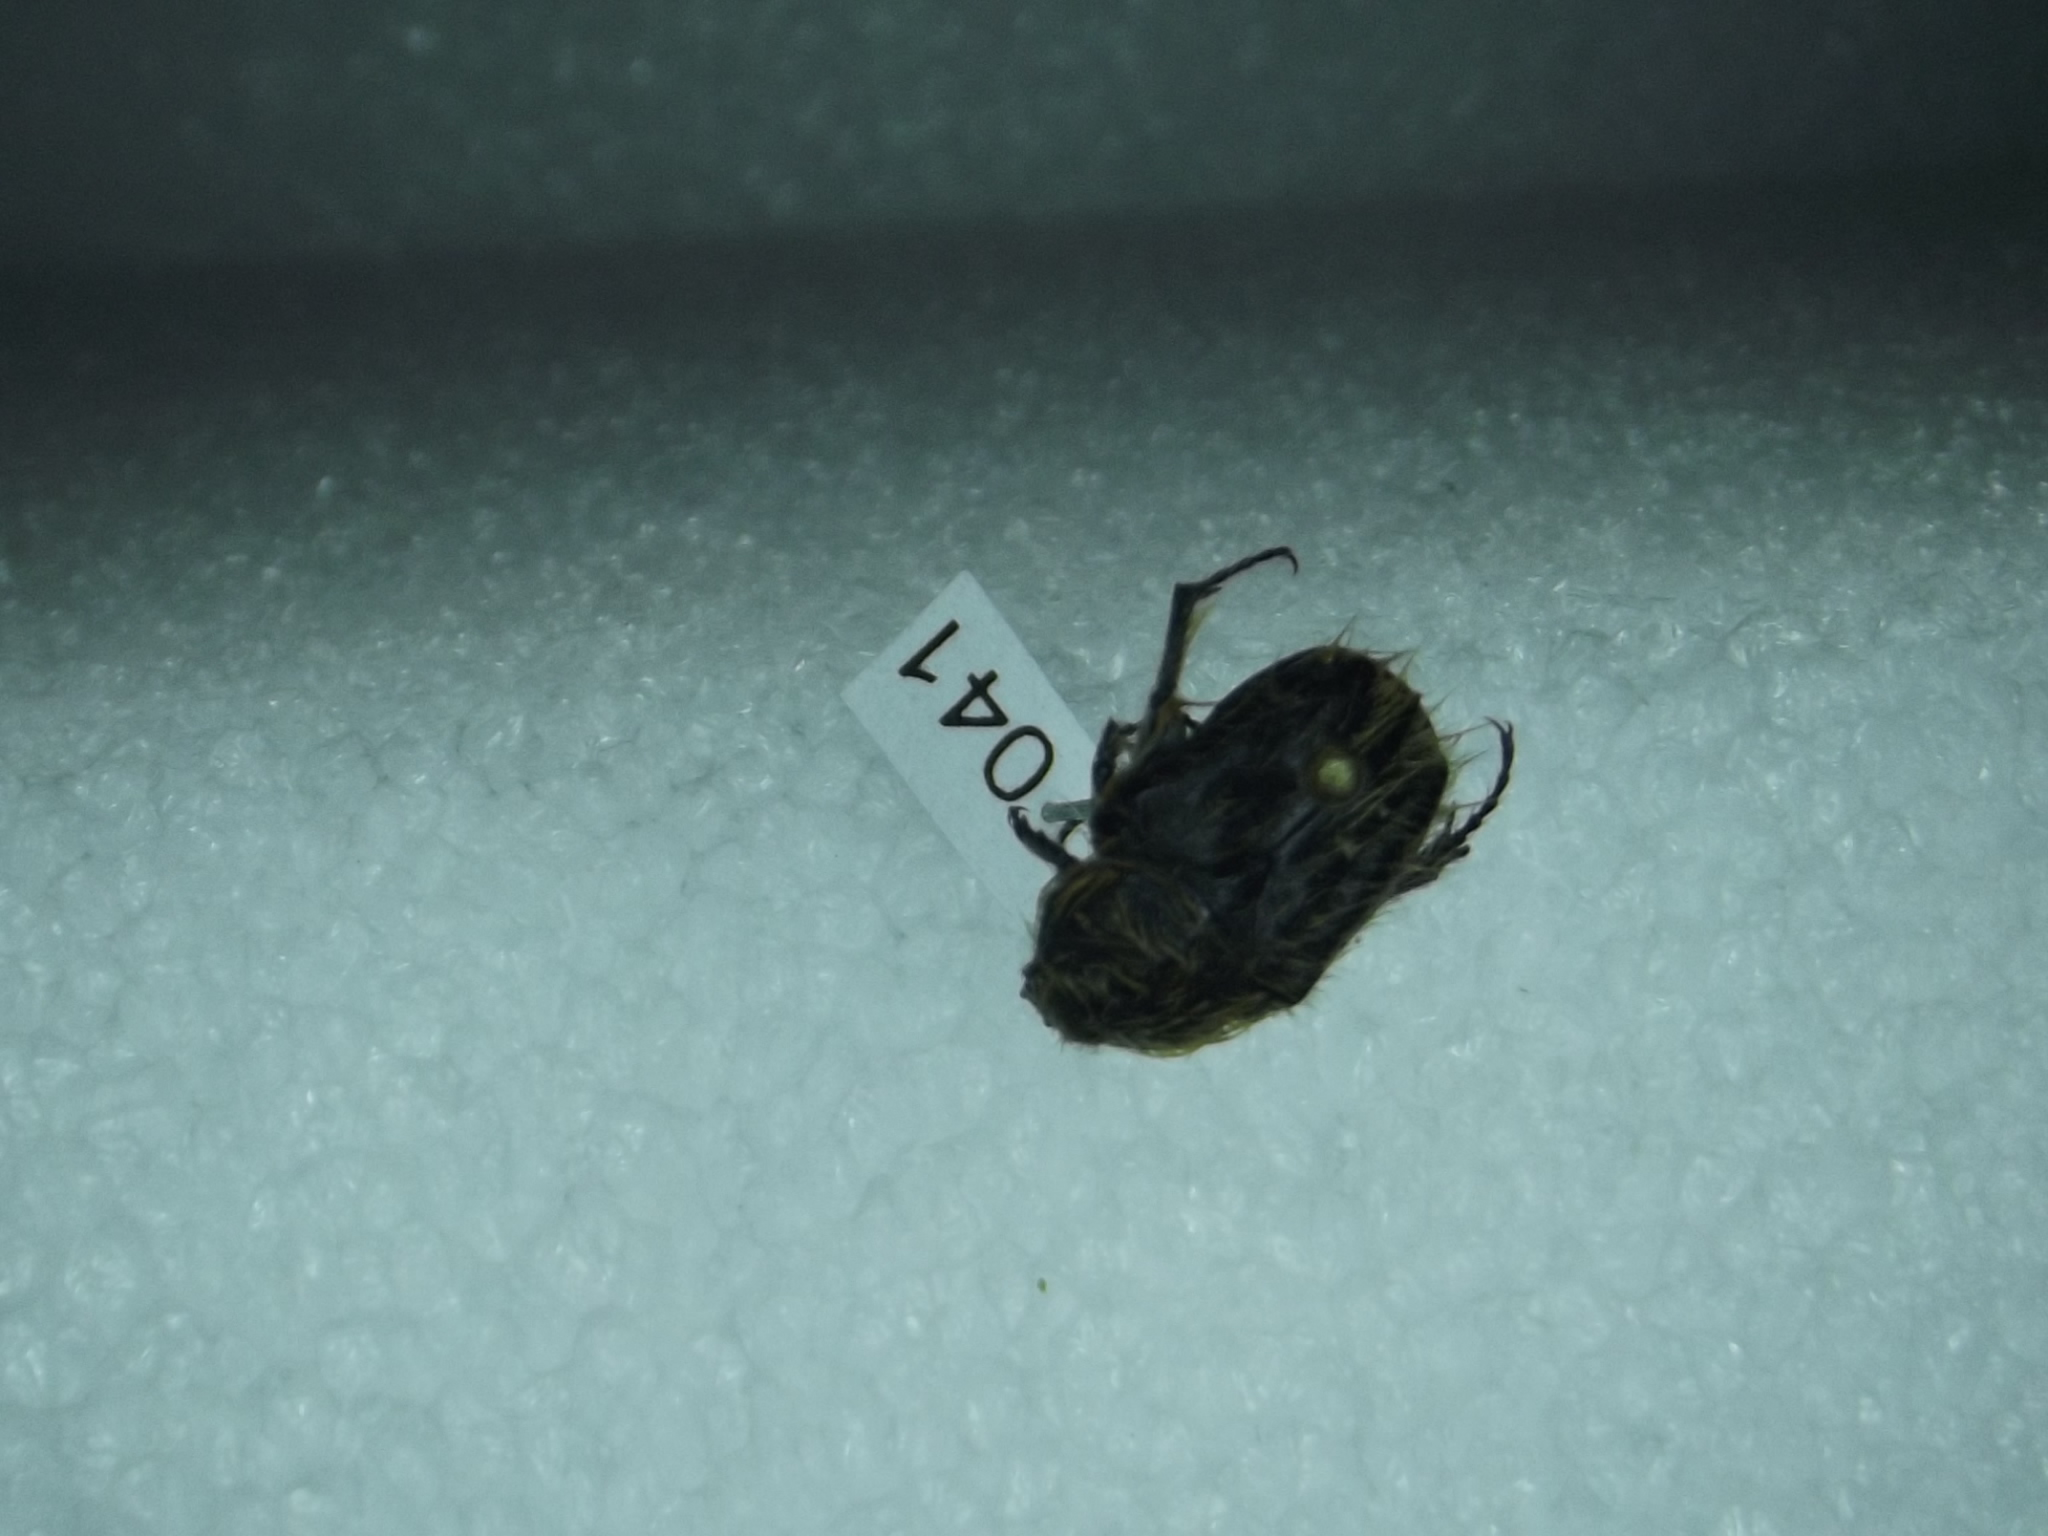Tropinota_senicula: (971, 515, 1534, 1070)
